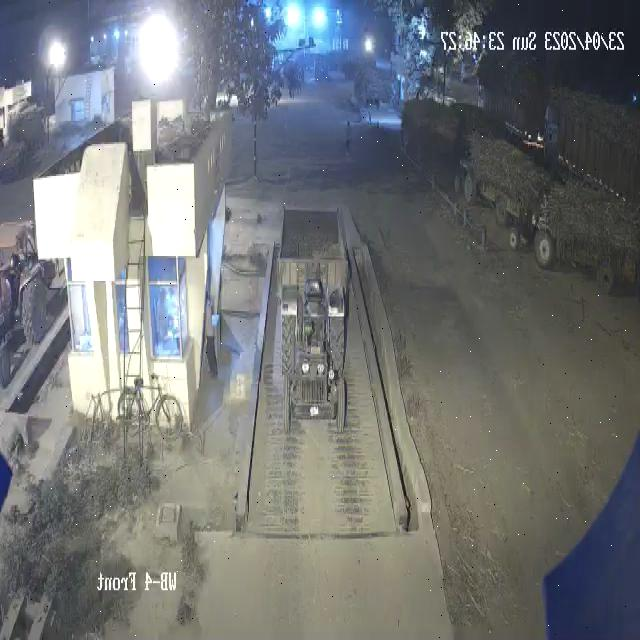Tratores - v5 YOLO V8L 2024-11-13: (275, 281, 353, 438)
